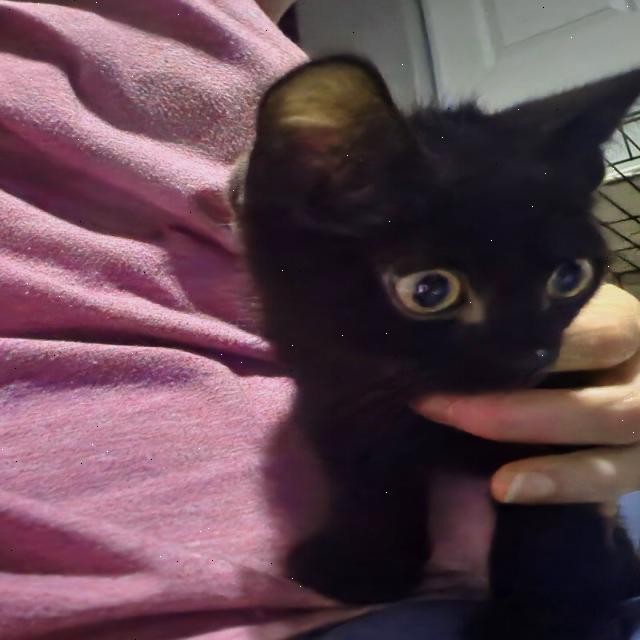bombay_cat: (224, 44, 638, 418)
